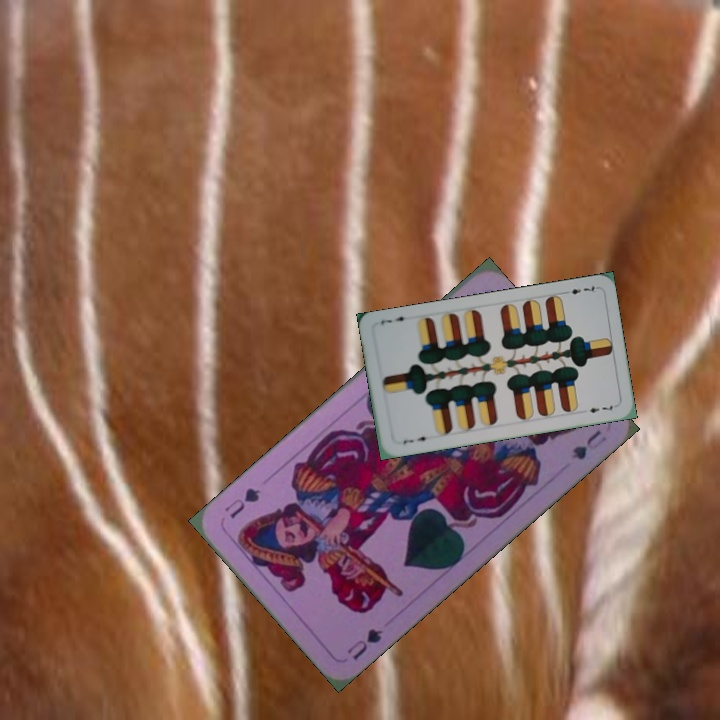E7: (399, 432, 433, 447), (568, 282, 599, 297)
GU: (342, 624, 386, 663)
